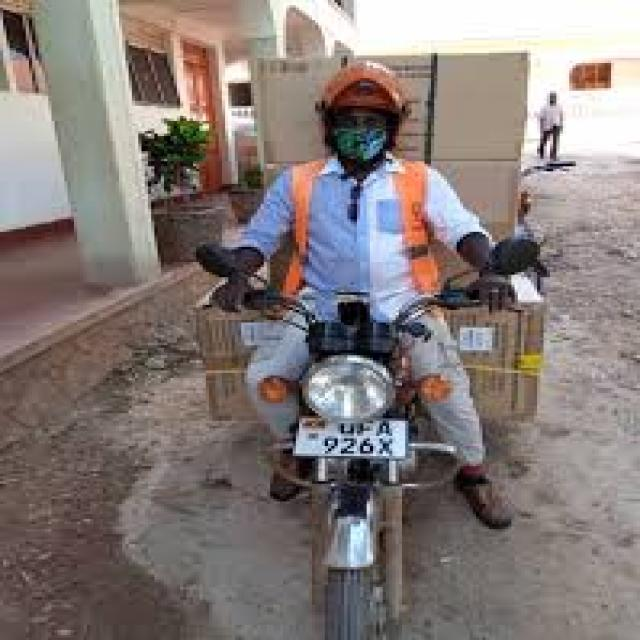bodaboda: (170, 218, 600, 640)
